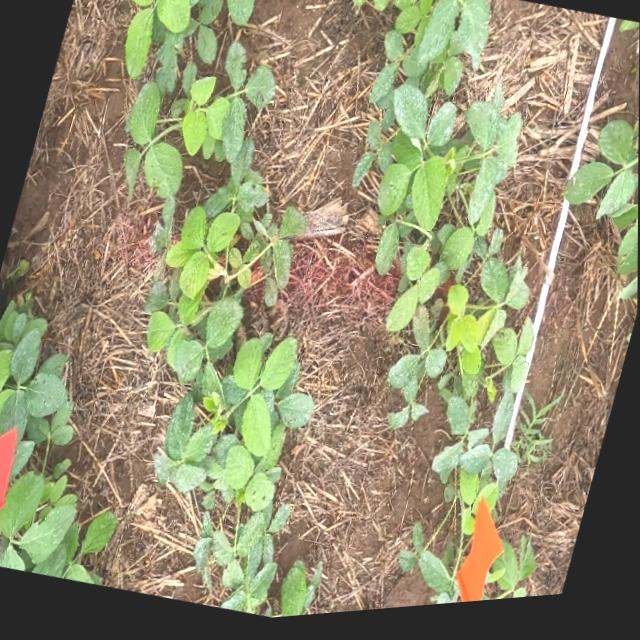grassy_weed: (512, 403, 561, 473)
soy_plant: (124, 0, 320, 622), (354, 0, 532, 451), (0, 325, 117, 586), (401, 438, 519, 612), (0, 299, 76, 521), (565, 130, 639, 313), (483, 546, 537, 609), (387, 362, 427, 435)
